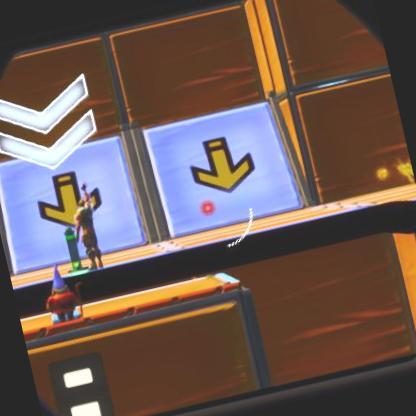person: (71, 195, 117, 264)
